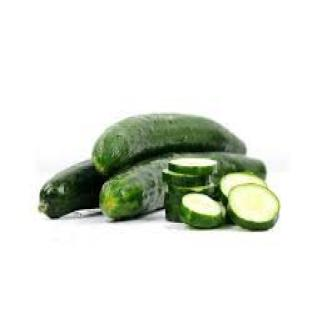Cucumber: (93, 114, 245, 173), (101, 154, 191, 219), (39, 160, 106, 218), (227, 185, 279, 230), (207, 153, 266, 182), (181, 194, 224, 229), (220, 173, 266, 204), (168, 157, 216, 175), (163, 170, 209, 187), (168, 183, 215, 196), (165, 193, 182, 222)
